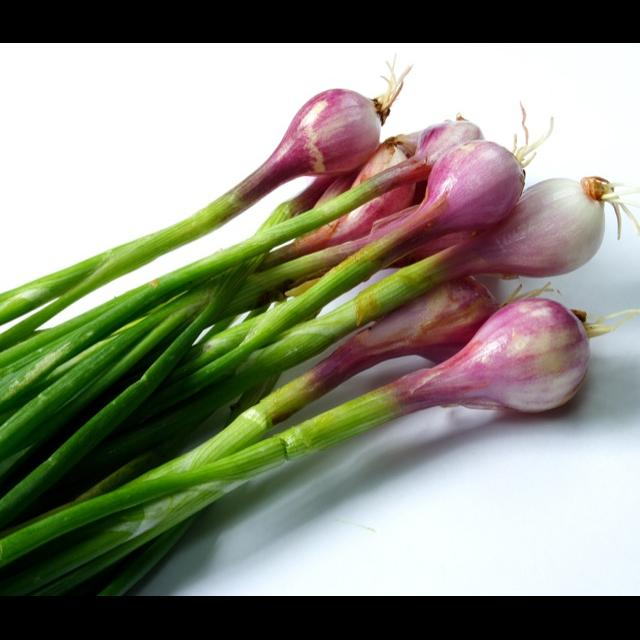green_onion: (0, 70, 640, 596)
